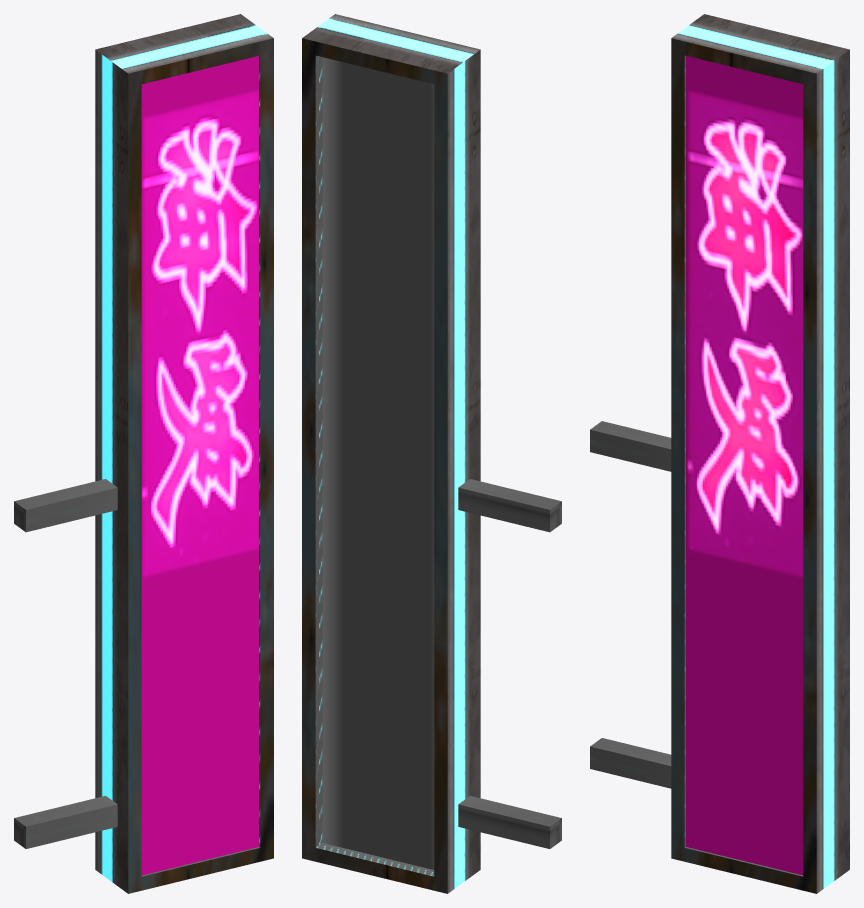
Rendered from Japanese_Sign_10.glb.
The picture shows the model from 3 angles, left to right: view 1: azimuth 30°, elevation 25°; view 2: azimuth 150°, elevation 25°; view 3: azimuth 330°, elevation 25°; orthographic projection.
Visible parts, largest first — view 1: Japanese_Sign_10; view 2: Japanese_Sign_10; view 3: Japanese_Sign_10.
Part boxes in pixels (left/top/right/bottom): Japanese_Sign_10: left=14, top=14, right=273, bottom=893; Japanese_Sign_10: left=302, top=14, right=561, bottom=893; Japanese_Sign_10: left=590, top=14, right=849, bottom=893.
Bounding box in the file's own units: 0.5236 × 1.73 × 0.1264.
2 materials, 1 textured.
